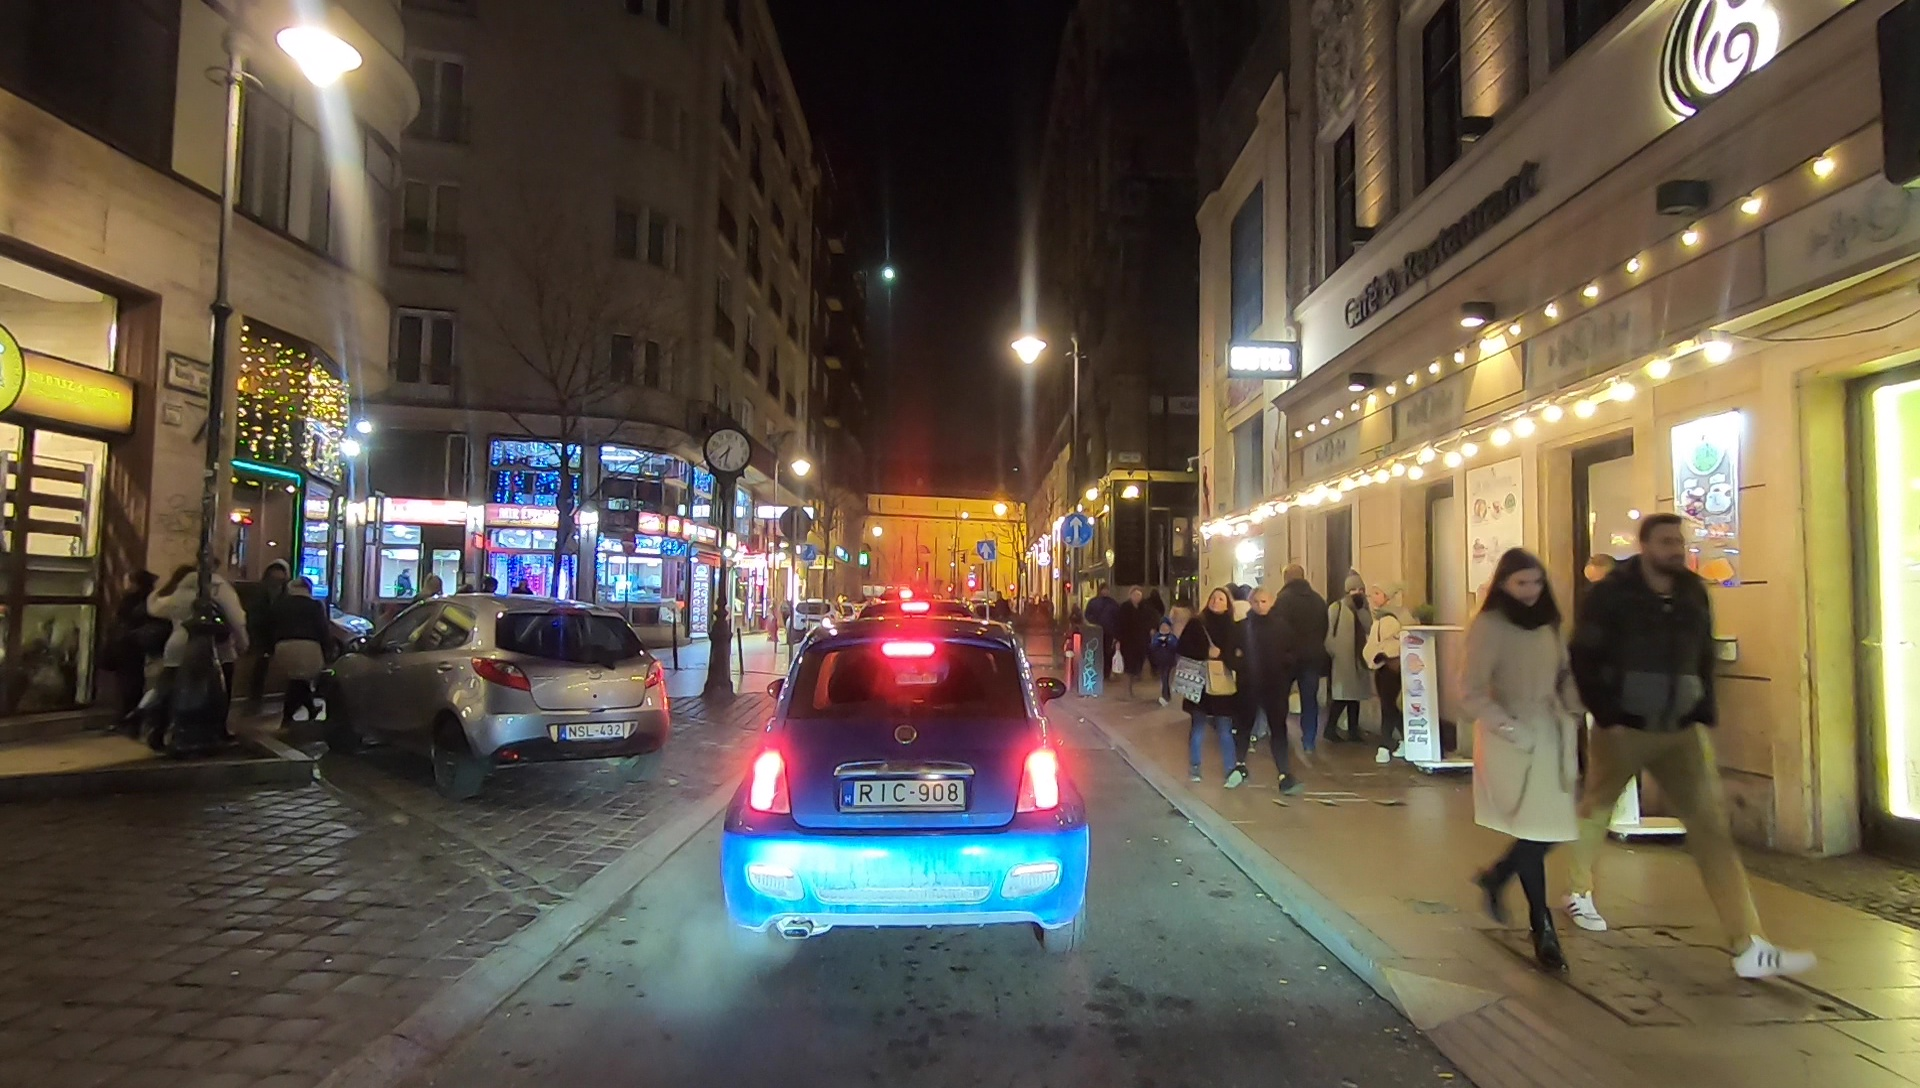person: (1588, 515, 1823, 989), (1460, 543, 1582, 984), (165, 561, 243, 736), (1271, 565, 1341, 754), (1186, 586, 1247, 786), (1236, 595, 1297, 791), (1365, 591, 1412, 769), (284, 569, 328, 719), (1328, 571, 1367, 734), (117, 567, 156, 732), (251, 563, 288, 711), (1091, 582, 1121, 686), (1121, 584, 1147, 673), (1151, 619, 1180, 693)
